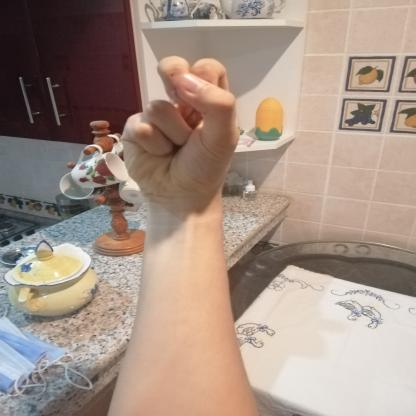QAAF: (102, 44, 261, 217)
